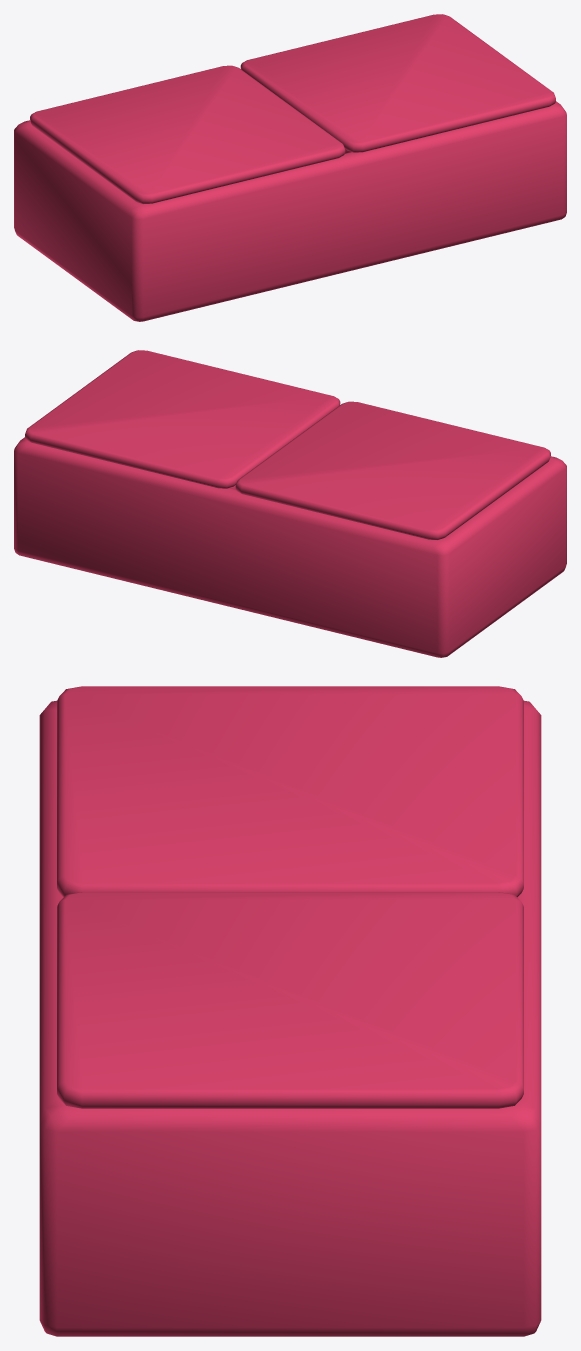
File: Block-I-Pink.fbx
The picture shows the model from 3 angles, top to bottom: view 1: azimuth 30°, elevation 25°; view 2: azimuth 150°, elevation 25°; view 3: azimuth 270°, elevation 25°; orthographic projection. The views are drawn at different scales.
Parts seen in each view (by area): view 1: Block-I-Pink, Cube.030; view 2: Block-I-Pink, Cube.030; view 3: Cube.030, Block-I-Pink.
Boxes of the visible parts, bbox=[...] form: Block-I-Pink: bbox=[14, 101, 566, 321]; Cube.030: bbox=[30, 14, 555, 203]; Block-I-Pink: bbox=[14, 437, 566, 657]; Cube.030: bbox=[25, 350, 550, 539]; Cube.030: bbox=[57, 686, 523, 1108]; Block-I-Pink: bbox=[39, 700, 541, 1336].
Size of the model in its own units: 200 by 54.11 by 100.
